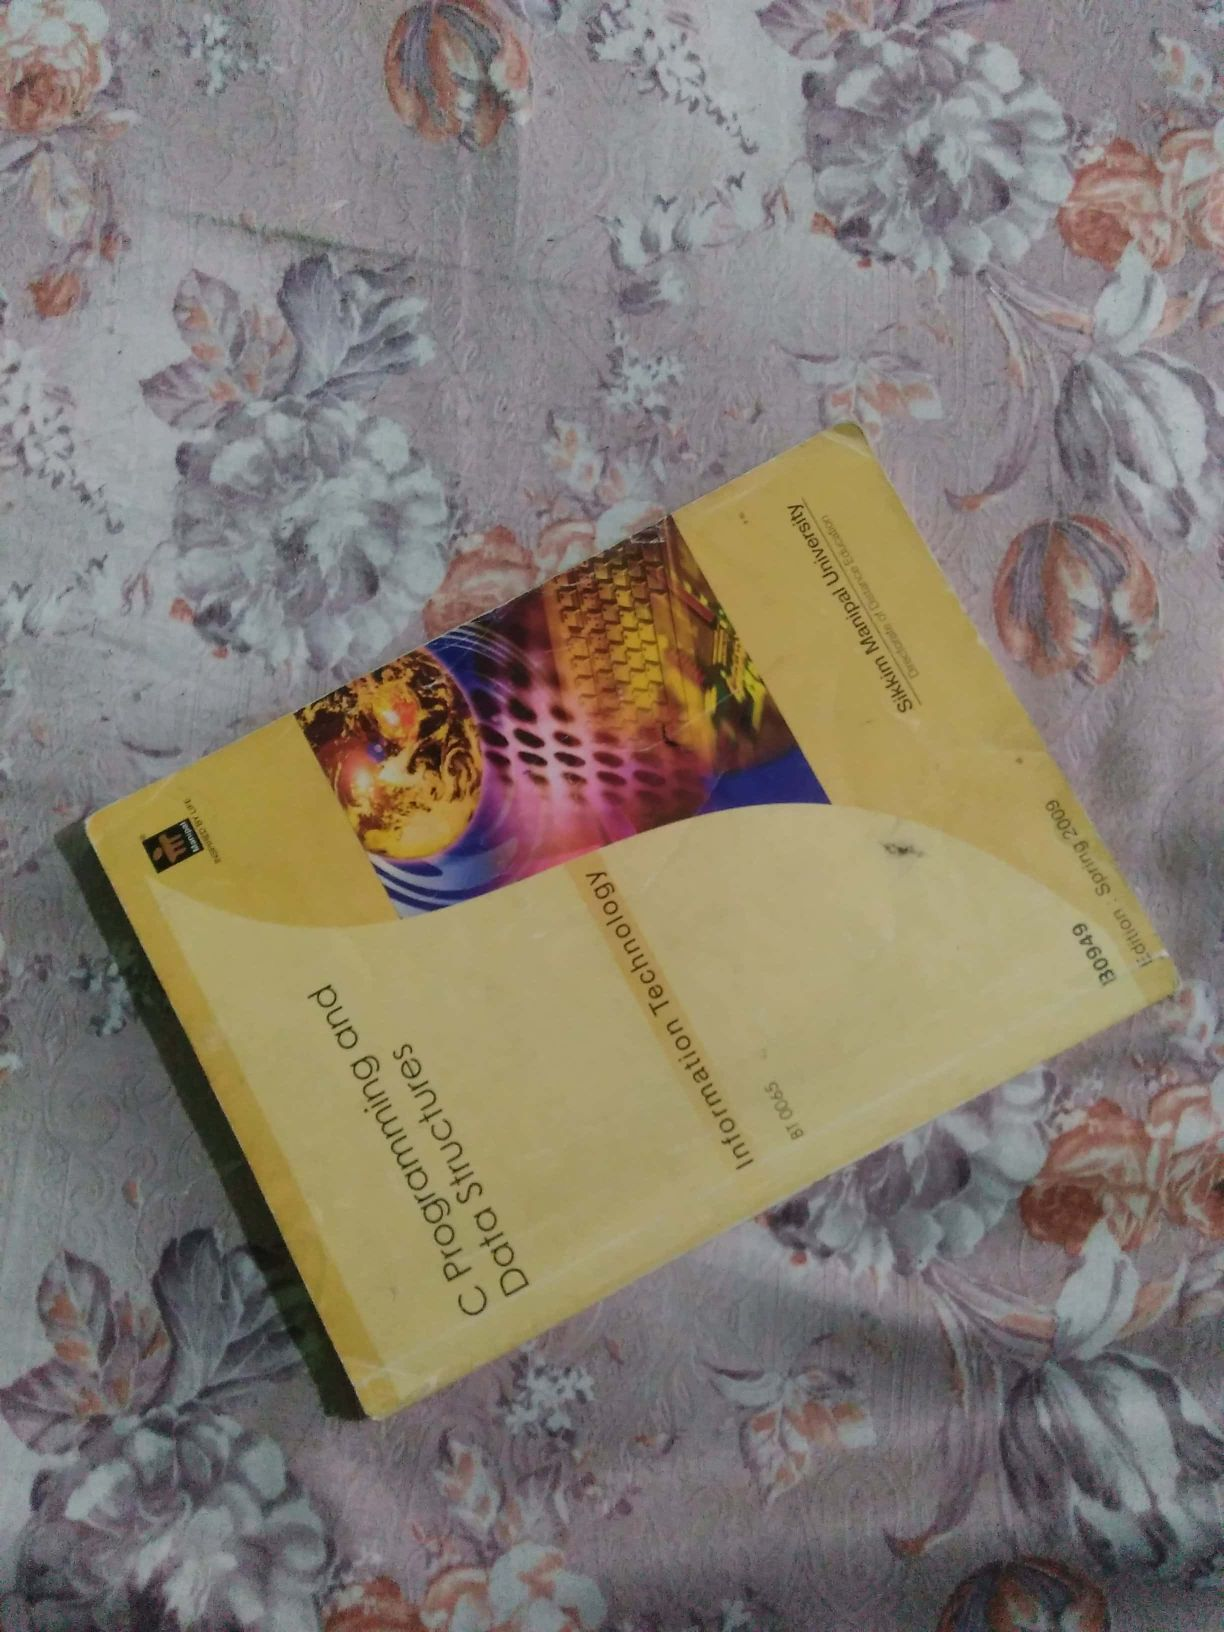clang: (163, 504, 1175, 1390)
